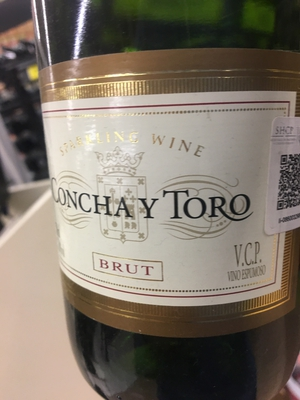brut: (32, 4, 300, 387)
